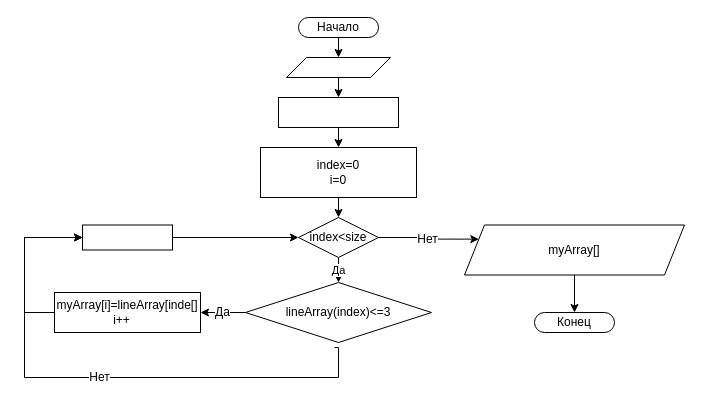
Image size: 702x403. Some labels were removed from this diagram. The shapes that lost their labels are listed below. From the top down, each one's centre as x and y in pixels, then its label:
the point at 338,67: lineArray[]
the point at 338,112: size=длина массива
the point at 127,237: index++
